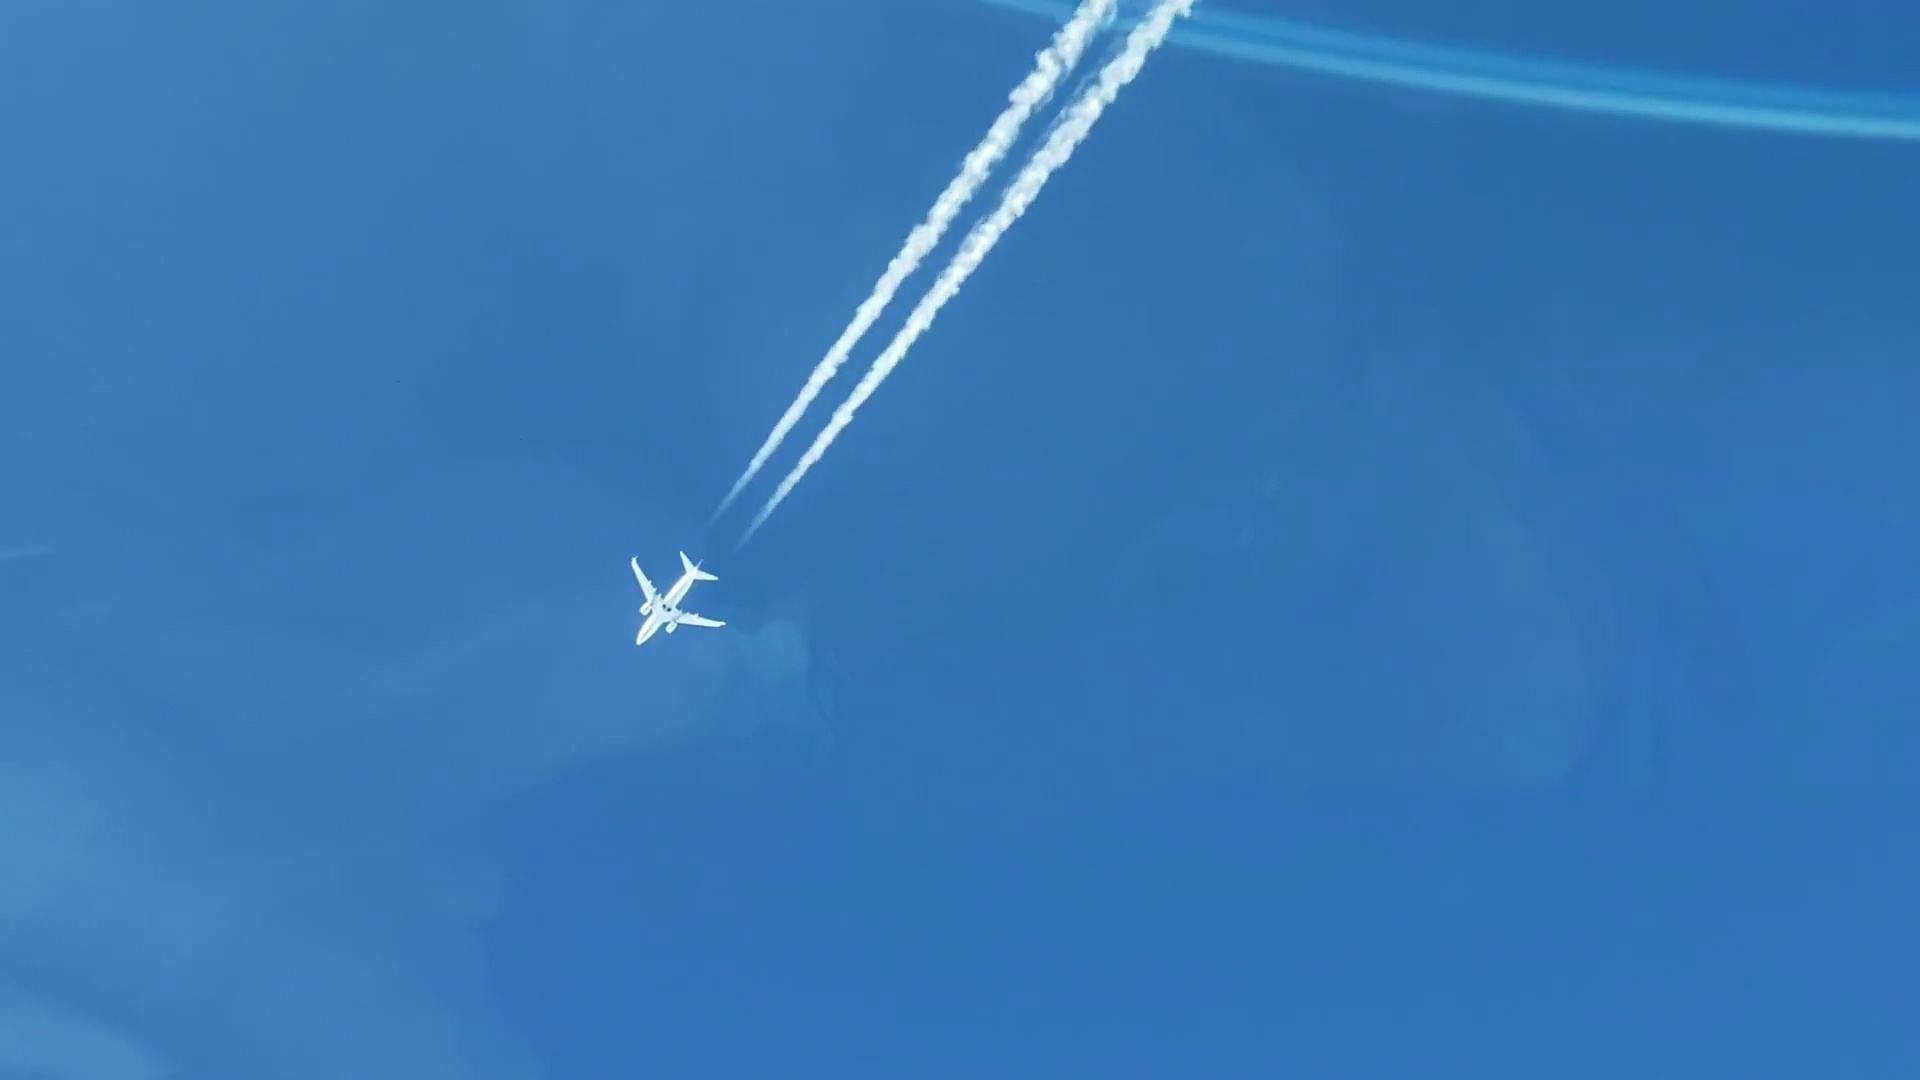plane: (628, 549, 727, 647)
